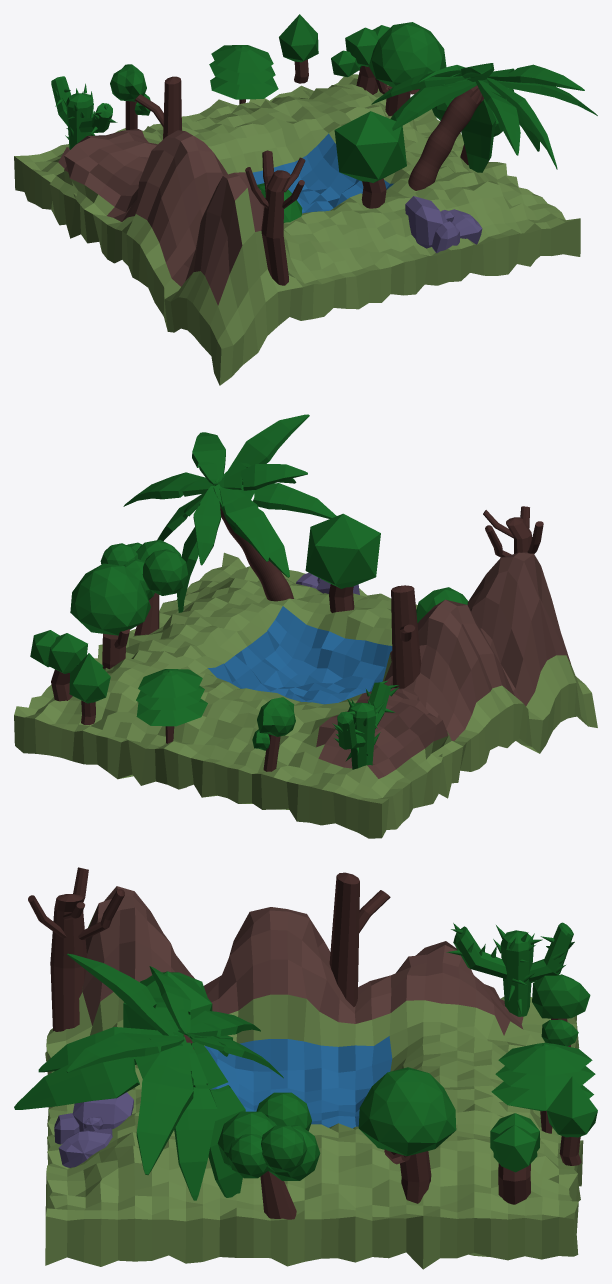
File: Island.fbx
3 views of the same model, one above another, from view 1: azimuth 30°, elevation 25°; view 2: azimuth 150°, elevation 25°; view 3: azimuth 270°, elevation 25° (orthographic). The views are drawn at different scales.
Visible parts, largest first — view 1: Island, Coconut 8, Tree 7, Tree 4, Stem 1, Tree 3, Rock 3, Cacti, Tree 1, Tree2, Tree 5, Stem 2; view 2: Island, Coconut 8, Tree 4, Tree 7, Tree 6, Tree 3, Cacti, Stem 2, Tree 1, Tree 5, Tree2, Stem 1 (+1 smaller); view 3: Island, Coconut 8, Tree 4, Tree 6, Stem 1, Cacti, Tree 3, Stem 2, Rock 3, Tree 1, Tree 5, Tree2 (+1 smaller).
Part boxes in pixels (x1,y1,x2,y2): Island: (14, 74, 580, 385); Coconut 8: (371, 63, 597, 190); Tree 7: (334, 111, 406, 208); Tree 4: (369, 22, 446, 115); Stem 1: (245, 150, 305, 285); Tree 3: (209, 45, 278, 103); Rock 3: (405, 196, 482, 252); Cacti: (51, 76, 117, 149); Tree 1: (331, 25, 389, 94); Tree2: (279, 14, 318, 83); Tree 5: (110, 64, 150, 130); Stem 2: (134, 76, 181, 139); Island: (14, 552, 597, 838); Coconut 8: (123, 414, 336, 612); Tree 4: (70, 563, 150, 668); Tree 7: (305, 513, 380, 612); Tree 6: (100, 539, 188, 635); Tree 3: (136, 669, 207, 743); Cacti: (332, 680, 398, 769); Stem 2: (391, 585, 421, 688); Tree 1: (30, 630, 103, 701); Tree 5: (252, 697, 295, 771); Tree2: (69, 653, 110, 725); Stem 1: (483, 506, 543, 557); Island: (45, 886, 583, 1269); Coconut 8: (14, 953, 283, 1200); Tree 4: (358, 1067, 456, 1203); Tree 6: (217, 1092, 320, 1219); Stem 1: (28, 867, 124, 1031); Cacti: (446, 922, 574, 1016); Tree 3: (491, 1042, 595, 1133); Stem 2: (329, 872, 390, 1006); Rock 3: (54, 1092, 133, 1167); Tree 1: (490, 1113, 539, 1204); Tree 5: (532, 974, 590, 1046); Tree2: (546, 1076, 597, 1165).
Size of the model in its own units: 324 by 178 by 304.
